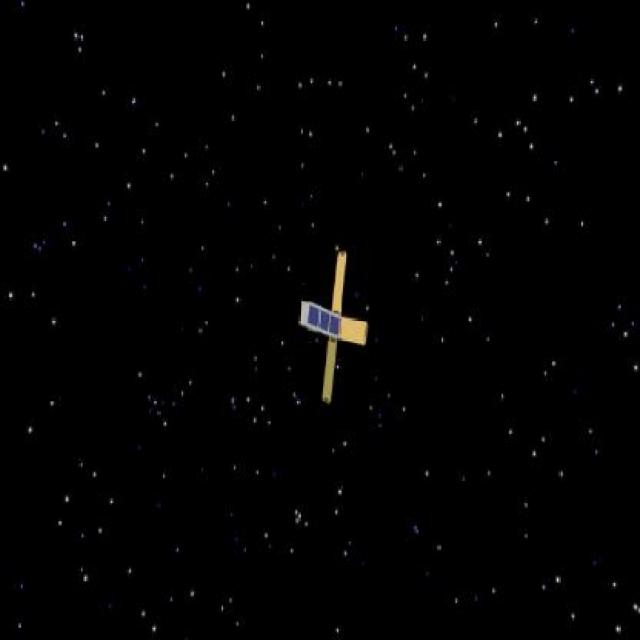satellite: (302, 250, 390, 404)
